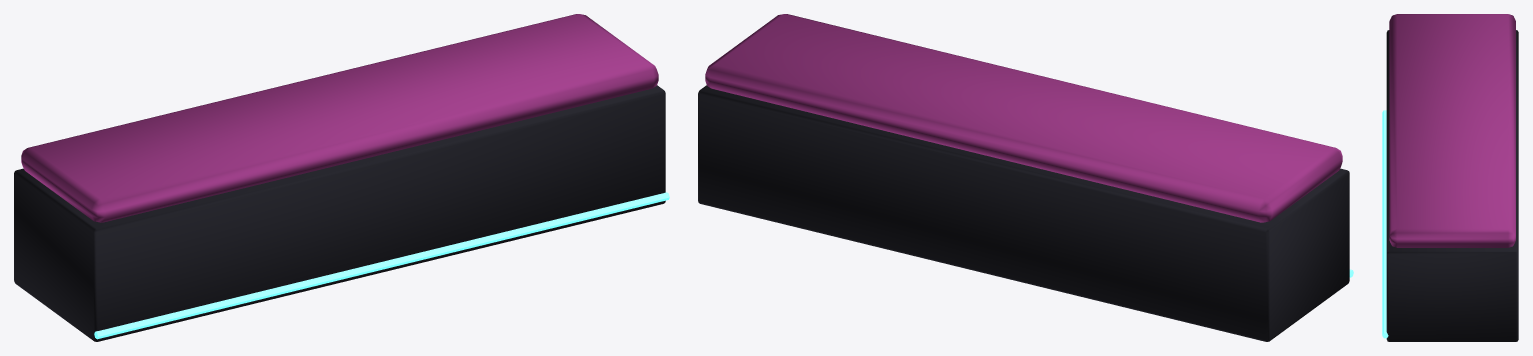
The model's file is arcade_bench.glb.
The picture shows the model from 3 angles, left to right: view 1: azimuth 30°, elevation 25°; view 2: azimuth 150°, elevation 25°; view 3: azimuth 270°, elevation 25°; orthographic projection. The views are drawn at different scales.
Visible parts, largest first — view 1: Bench base, Bench pad, Bench glow; view 2: Bench base, Bench pad; view 3: Bench pad, Bench base, Bench glow.
Boxes of the visible parts, bbox=[...] form: Bench base: bbox=[14, 85, 665, 341]; Bench pad: bbox=[21, 14, 658, 222]; Bench glow: bbox=[94, 192, 669, 339]; Bench base: bbox=[698, 85, 1349, 341]; Bench pad: bbox=[705, 14, 1342, 222]; Bench pad: bbox=[1389, 14, 1515, 247]; Bench base: bbox=[1386, 30, 1518, 341]; Bench glow: bbox=[1382, 110, 1388, 338].
Size of the model in its own units: 2 by 0.46 by 0.517.
